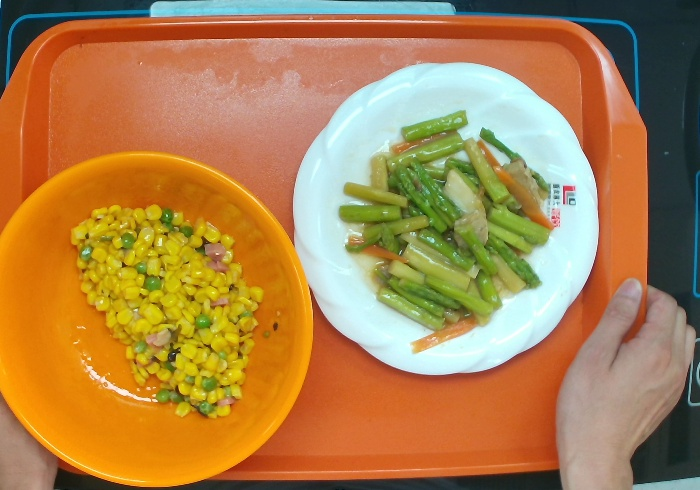ZNLD-Hua_Bian_Wan: (290, 59, 600, 377)
ZNLD-Ju_Se_Tang_Wan: (1, 150, 316, 490)
